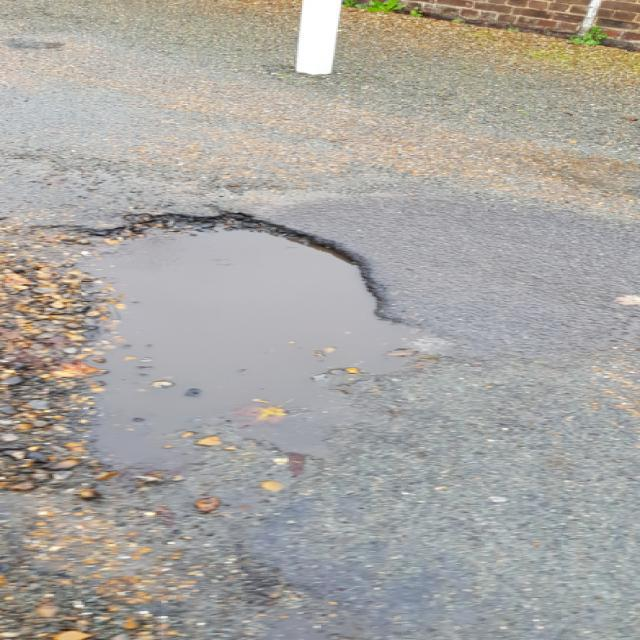pothole: (0, 205, 457, 492)
